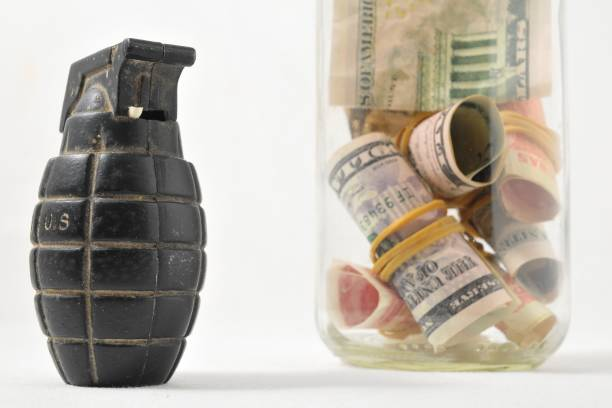e1: (28, 38, 208, 389)
